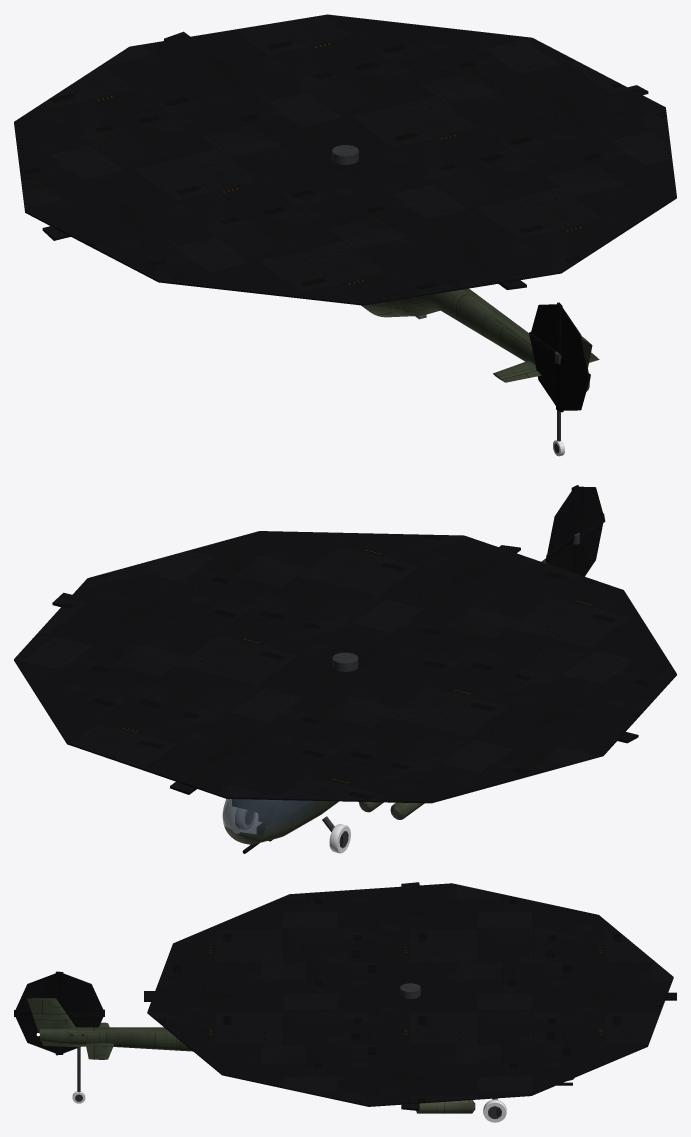
File: military_helicopter.glb
3 views of the same model, one above another, from view 1: azimuth 30°, elevation 25°; view 2: azimuth 150°, elevation 25°; view 3: azimuth 270°, elevation 25° (orthographic). The views are drawn at different scales.
Parts seen in each view (by area): view 1: rotor_disc.L2, tail_rotor_disc.L2, boom.L0, tail_rotor_blades.L0, rotor_blades.L0; view 2: rotor_disc.L2, canopy.L0, tail_rotor_disc.L2, canopy.L1, tail_rotor_blades.L0, rotor_blades.L0, canopy.L2, cabin.L0; view 3: rotor_disc.L2, tail_rotor_disc.L2, boom.L0, fin.L0, pod_r26.L0, fin.L1, tail_rotor_blades.L0, rotor_blades.L0.
Part boxes in pixels (x1=…): rotor_disc.L2: x1=14, y1=14, x2=676, y2=305; tail_rotor_disc.L2: x1=530, y1=304, x2=588, y2=410; boom.L0: x1=398, y1=288, x2=589, y2=391; tail_rotor_blades.L0: x1=529, y1=302, x2=590, y2=412; rotor_blades.L0: x1=42, y1=31, x2=648, y2=289; rotor_disc.L2: x1=14, y1=531, x2=676, y2=803; canopy.L0: x1=223, y1=799, x2=316, y2=844; tail_rotor_disc.L2: x1=547, y1=486, x2=603, y2=576; canopy.L1: x1=223, y1=799, x2=315, y2=844; tail_rotor_blades.L0: x1=545, y1=485, x2=605, y2=573; rotor_blades.L0: x1=52, y1=545, x2=638, y2=794; canopy.L2: x1=232, y1=801, x2=315, y2=835; cabin.L0: x1=279, y1=801, x2=338, y2=821; rotor_disc.L2: x1=147, y1=883, x2=673, y2=1106; tail_rotor_disc.L2: x1=15, y1=973, x2=103, y2=1053; boom.L0: x1=40, y1=1027, x2=192, y2=1051; fin.L0: x1=30, y1=998, x2=85, y2=1046; pod_r26.L0: x1=416, y1=1100, x2=475, y2=1113; fin.L1: x1=27, y1=998, x2=84, y2=1046; tail_rotor_blades.L0: x1=14, y1=971, x2=104, y2=1055; rotor_blades.L0: x1=144, y1=882, x2=676, y2=1110.
Size of the model in its own units: 16.4 by 4.3 by 20.4.
Materials: 15 (9 with a texture image).
